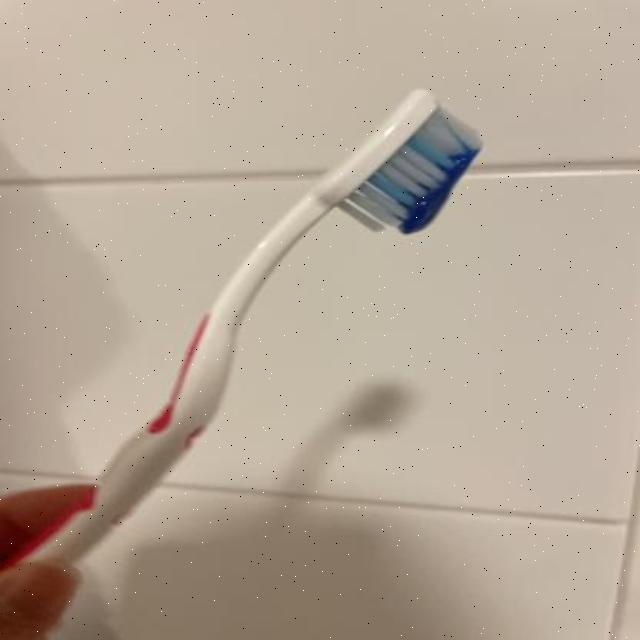toothbrush: (36, 78, 492, 564)
